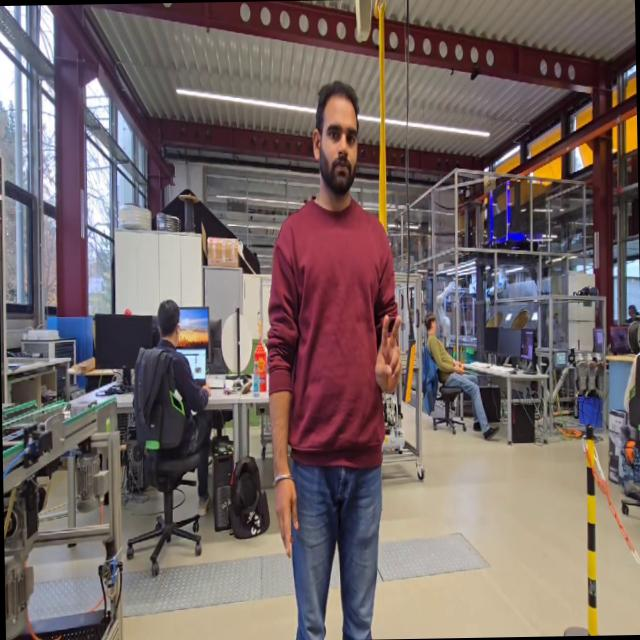v_sign: (372, 310, 406, 398)
